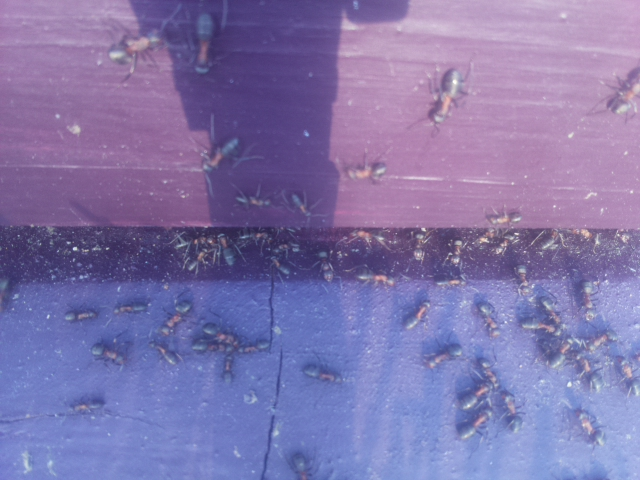ant: (419, 55, 470, 138), (196, 314, 267, 357), (101, 21, 167, 67), (194, 129, 248, 179), (568, 401, 612, 454), (452, 402, 499, 447), (189, 12, 222, 74), (452, 375, 501, 416), (416, 337, 469, 374), (155, 297, 198, 338), (279, 446, 330, 480), (340, 156, 393, 187), (279, 187, 318, 223), (403, 293, 435, 336), (473, 297, 502, 341), (613, 75, 640, 121), (88, 338, 128, 368), (300, 362, 348, 386), (510, 261, 537, 299), (354, 268, 394, 293), (498, 396, 527, 430), (214, 230, 240, 267), (312, 245, 337, 282), (149, 339, 180, 367), (234, 190, 271, 212), (443, 235, 466, 269), (408, 226, 431, 259), (516, 318, 560, 334), (619, 357, 637, 396), (581, 279, 598, 318), (484, 210, 520, 223)
